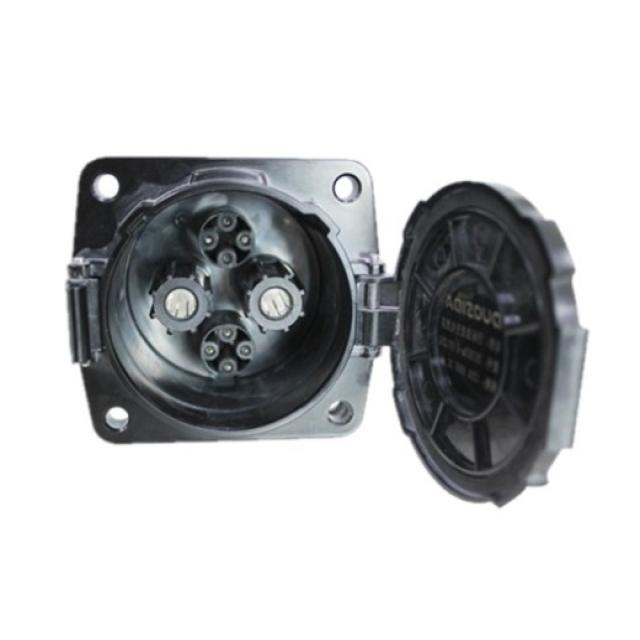CHAdeMO: (109, 199, 347, 433)
